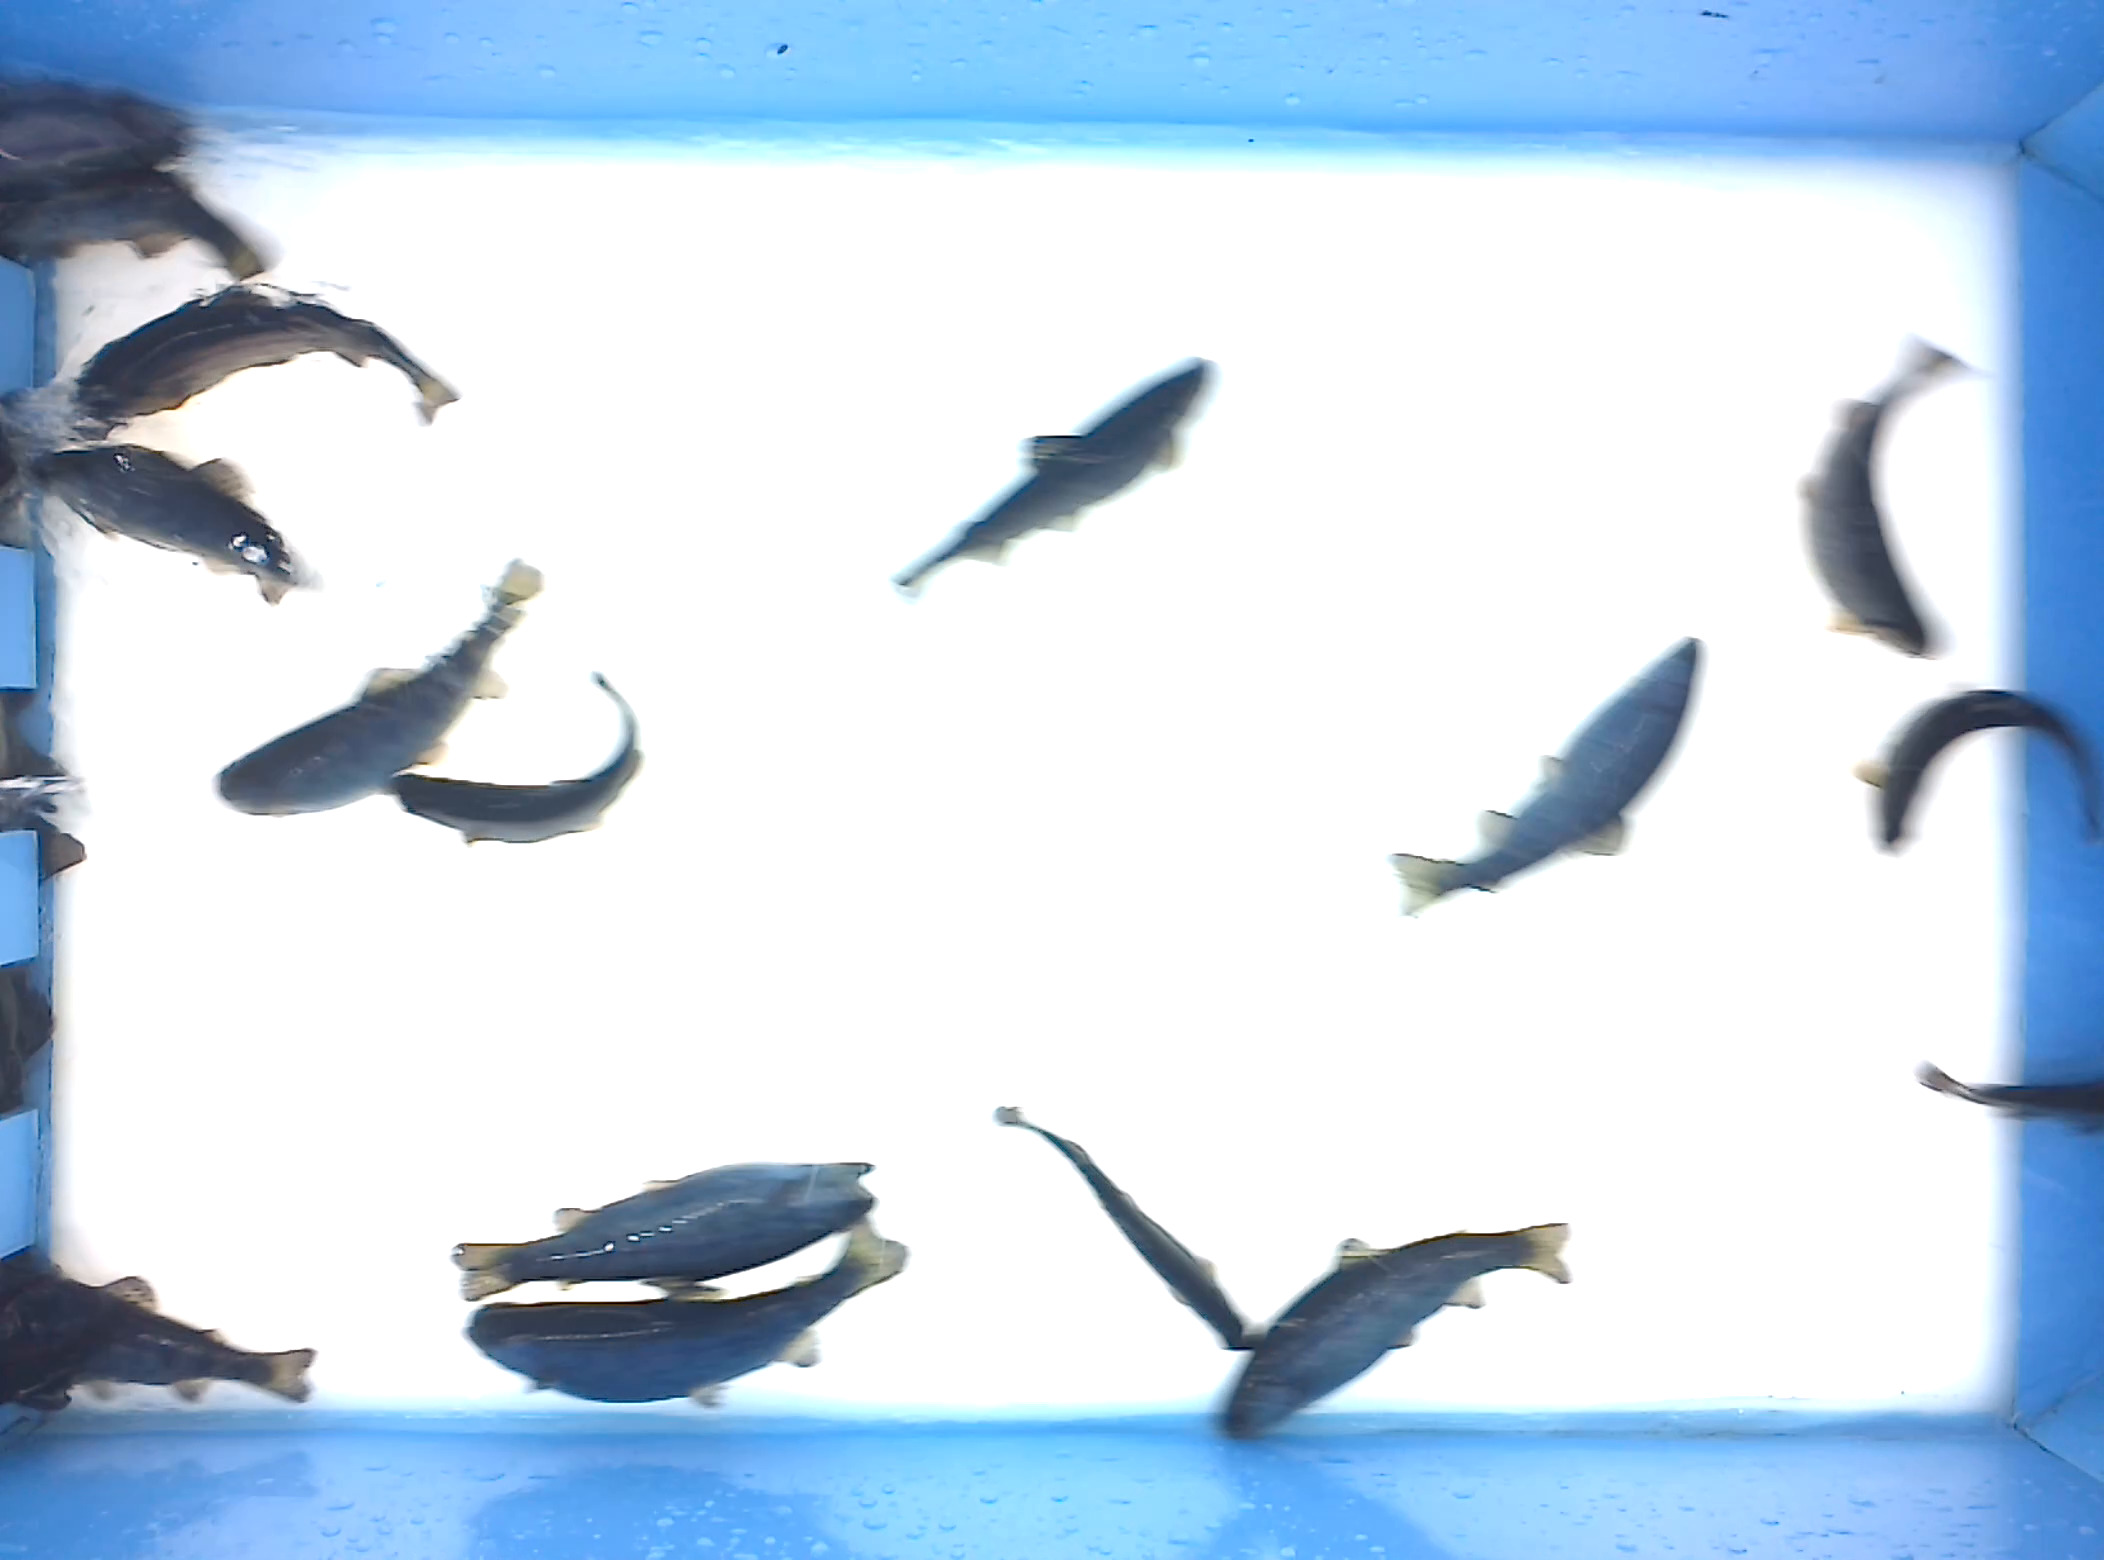fish: (1385, 633, 1711, 923), (460, 1214, 911, 1417), (211, 552, 546, 819), (883, 347, 1221, 605), (1213, 1214, 1575, 1445), (986, 1103, 1273, 1355), (61, 279, 464, 452), (1789, 321, 1988, 664), (447, 1159, 882, 1306), (23, 446, 328, 606), (377, 670, 642, 846), (1848, 683, 2104, 859)
